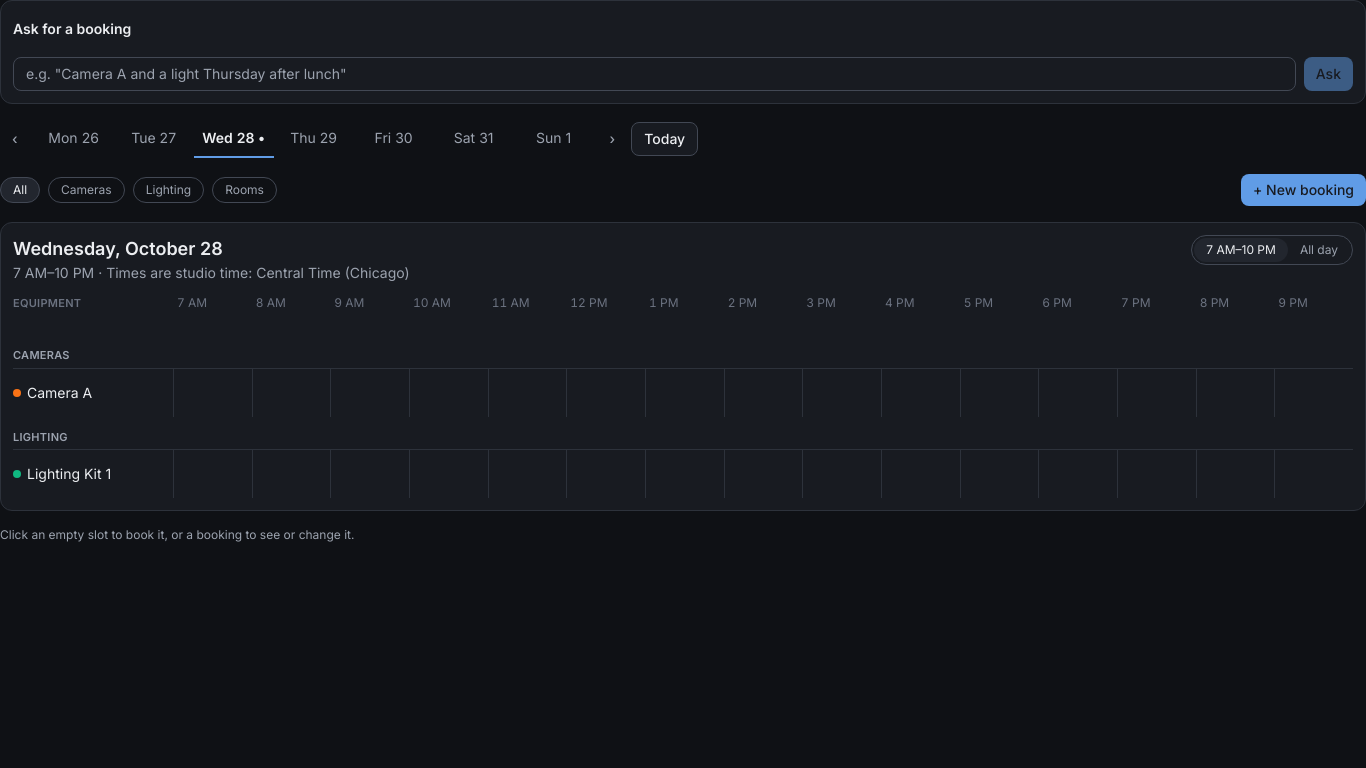
it: assistant suggestions for existing bookings › opens the booking with the change filled in and a before → after summary
Step 1. Type "Make my Camera A booking end at 6 and add a light" into the field named "Ask the booking assistant" → (654, 74), box top-left (13, 57), bottom-right (1296, 91)
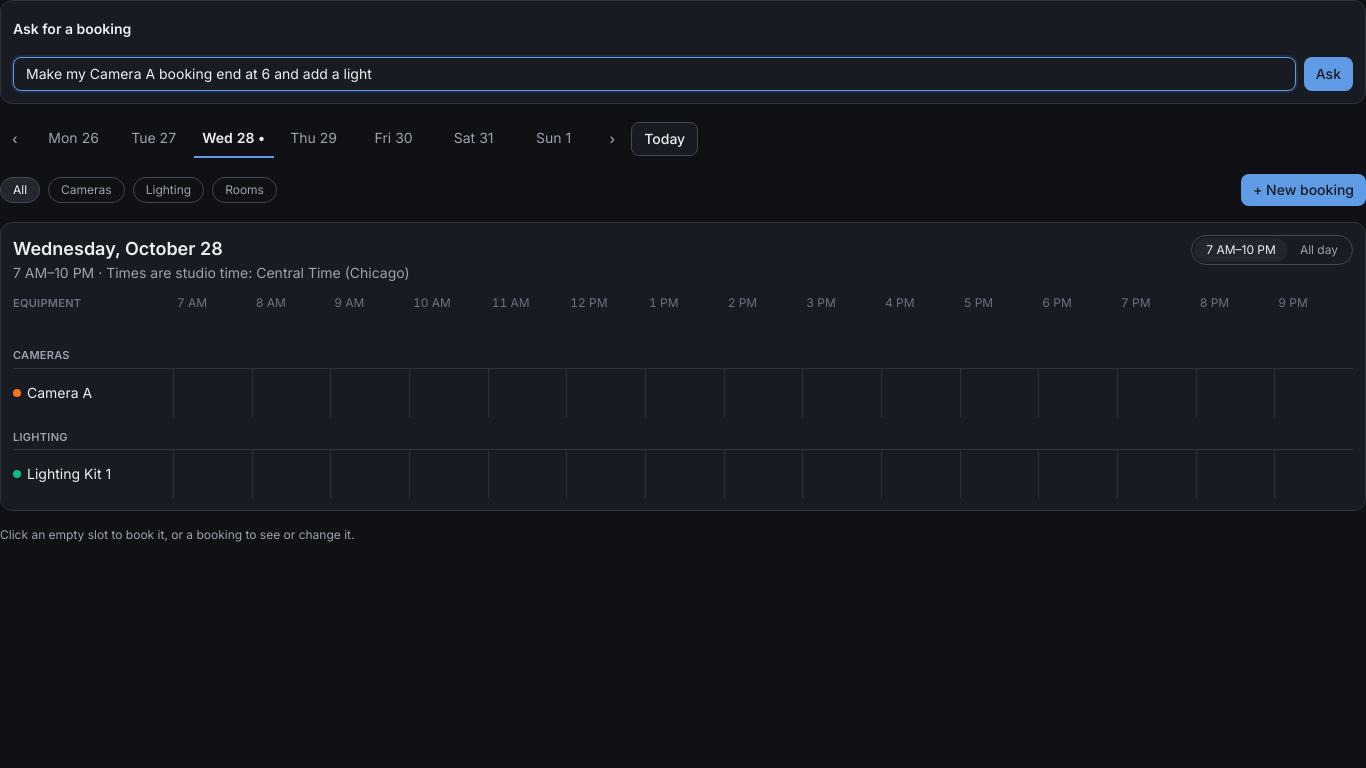
Step 2. Click the button "Ask" → (1328, 74), box top-left (1304, 57), bottom-right (1353, 91)
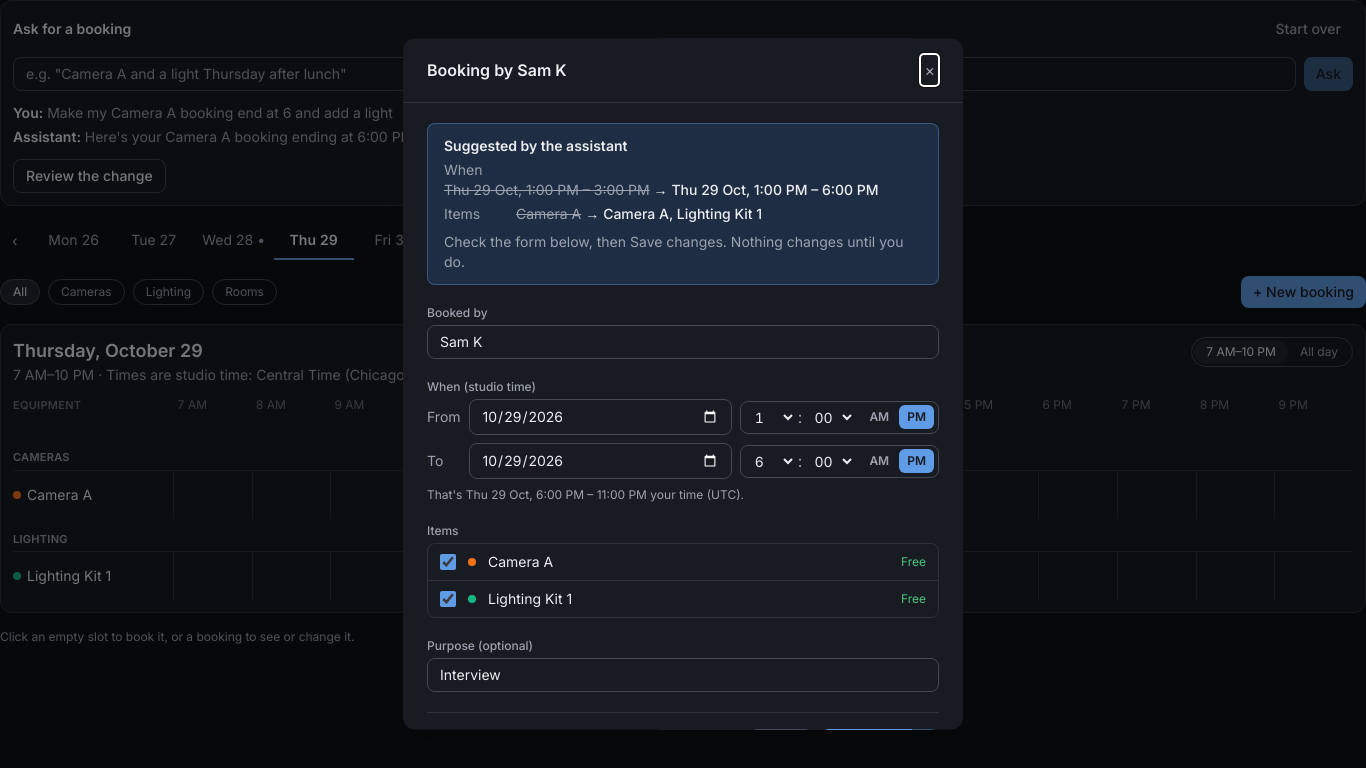
Expected: the element named "Suggested changes" does not show "Purpose", top-left (427, 123), bottom-right (939, 285)
Now the checkbox labelled "Lighting Kit 1 Free" is checked, box top-left (440, 591), bottom-right (456, 607)
